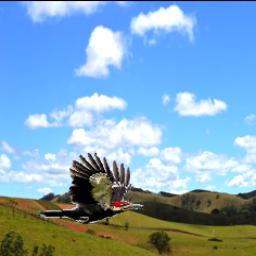Woodpecker: (38, 150, 144, 224)
